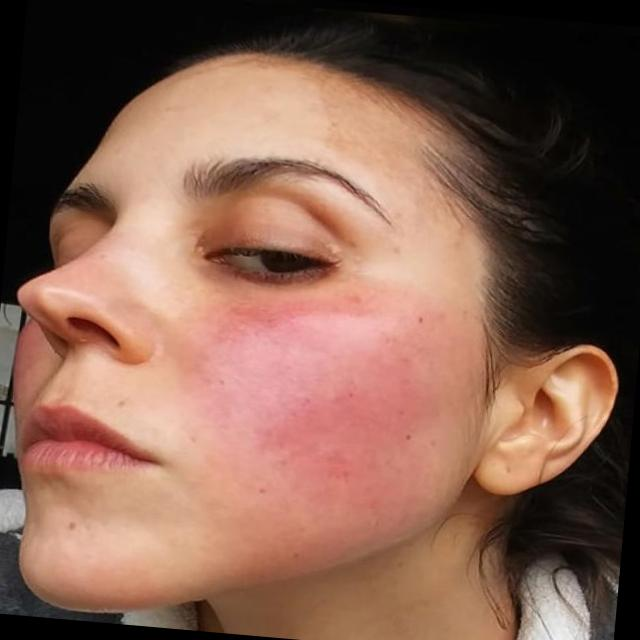redness: (173, 288, 422, 496)
